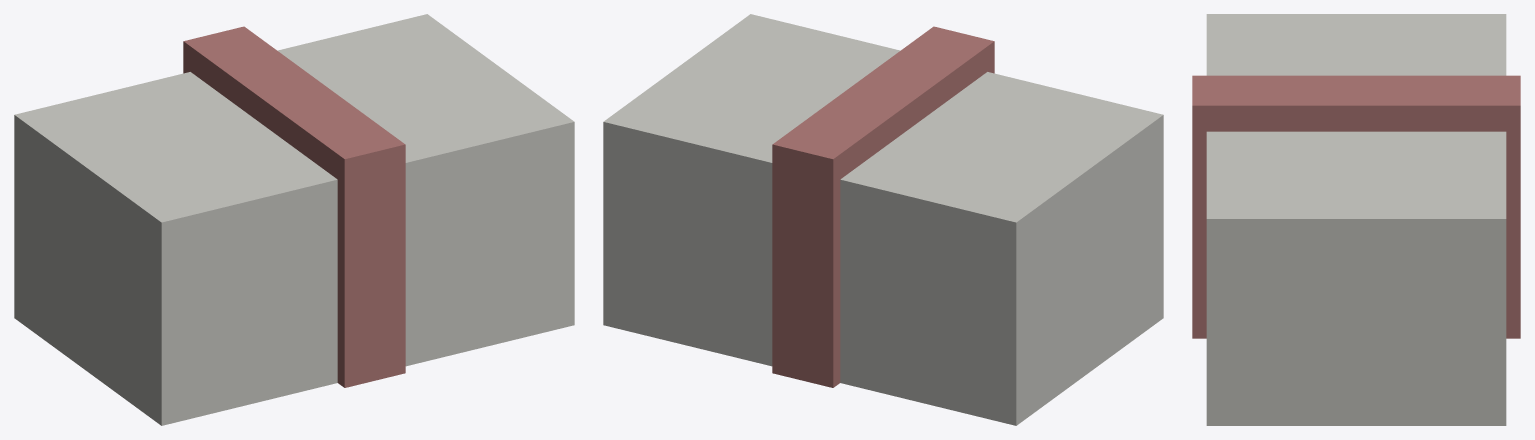
File: loot_bandage.glb
The picture shows the model from 3 angles, left to right: view 1: azimuth 30°, elevation 25°; view 2: azimuth 150°, elevation 25°; view 3: azimuth 270°, elevation 25°; orthographic projection.
Parts seen in each view (by area): view 1: pack_0, stripe_1; view 2: pack_0, stripe_1; view 3: pack_0, stripe_1.
Part boxes in pixels (box(x1,y1,x2,y2)): pack_0: box(14, 14, 574, 425); stripe_1: box(183, 26, 405, 387); pack_0: box(603, 14, 1163, 425); stripe_1: box(772, 26, 994, 387); pack_0: box(1206, 14, 1506, 425); stripe_1: box(1192, 75, 1520, 338).
Size of the model in its own units: 0.34 by 0.18 by 0.23.
